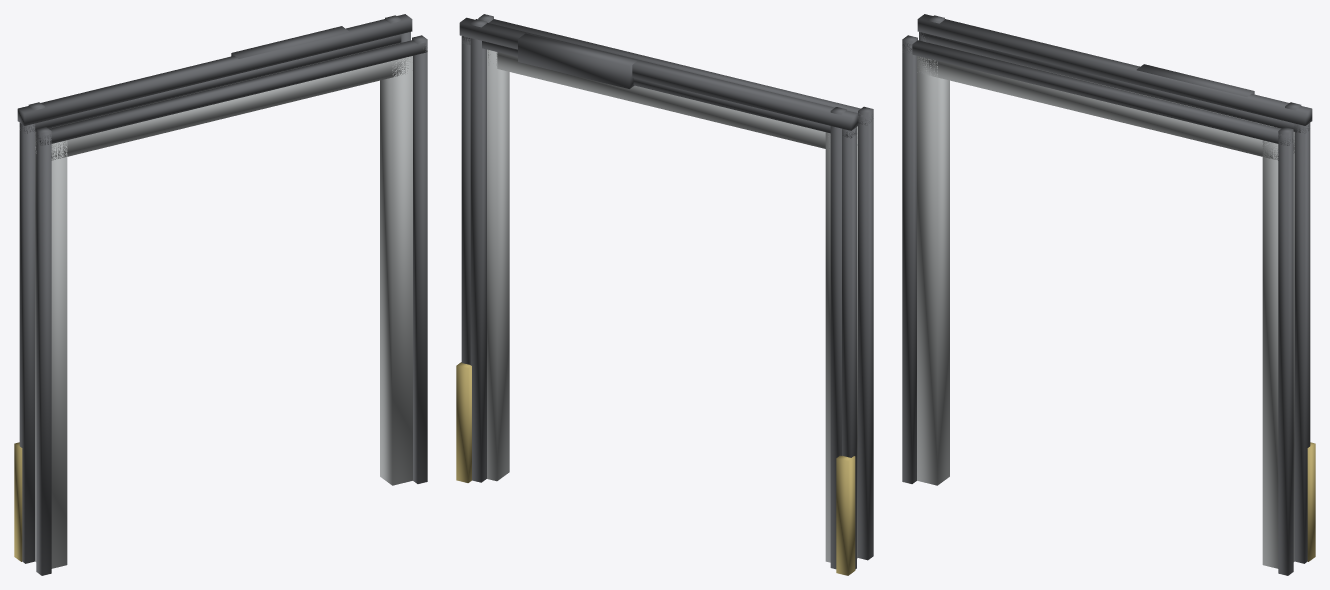
Rendered from bay_opening_loading_bay_w300_h360_d20.glb.
The picture shows the model from 3 angles, left to right: view 1: azimuth 30°, elevation 25°; view 2: azimuth 150°, elevation 25°; view 3: azimuth 330°, elevation 25°; orthographic projection.
Visible parts, largest first — view 1: world; view 2: world; view 3: world.
Part boxes in pixels (x1,y1,x2,y2): world: [14, 14, 427, 575]; world: [456, 14, 873, 575]; world: [902, 14, 1315, 575].
Size of the model in its own units: 3.58 by 3.99 by 0.422.
